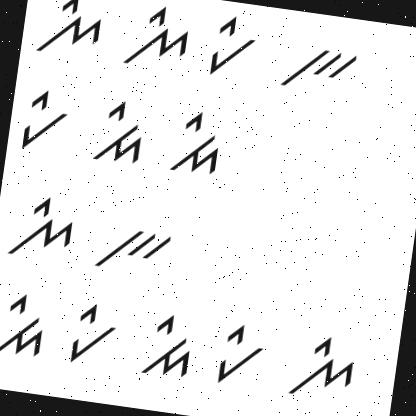di: (132, 303, 201, 384), (164, 106, 230, 182), (86, 95, 149, 170), (0, 289, 50, 361)
ni: (282, 326, 360, 412), (6, 184, 84, 268), (116, 0, 195, 78), (32, 0, 108, 64)
pi: (12, 80, 76, 158), (207, 314, 271, 391), (198, 11, 262, 82), (62, 296, 122, 370)
